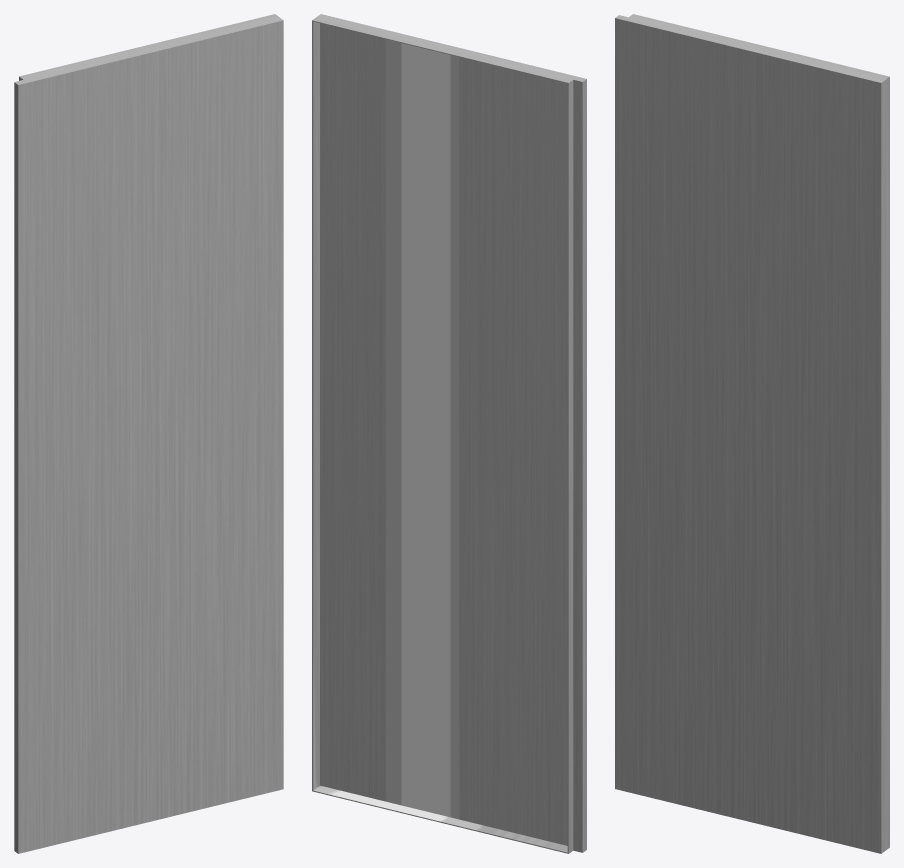
Rendered from left_outer_door.fbx.
3 renders of one model, left to right at view 1: azimuth 30°, elevation 25°; view 2: azimuth 150°, elevation 25°; view 3: azimuth 330°, elevation 25°, orthographic.
Visible parts, largest first — view 1: polySurface31; view 2: polySurface31; view 3: polySurface31.
Boxes of the visible parts, left/top/right/bottom form: polySurface31: left=14, top=14, right=283, bottom=853; polySurface31: left=312, top=14, right=586, bottom=853; polySurface31: left=615, top=14, right=889, bottom=853.
Bounding box in the file's own units: 9.54 × 26.4 × 0.5435.
Materials: 1 (1 with a texture image).
